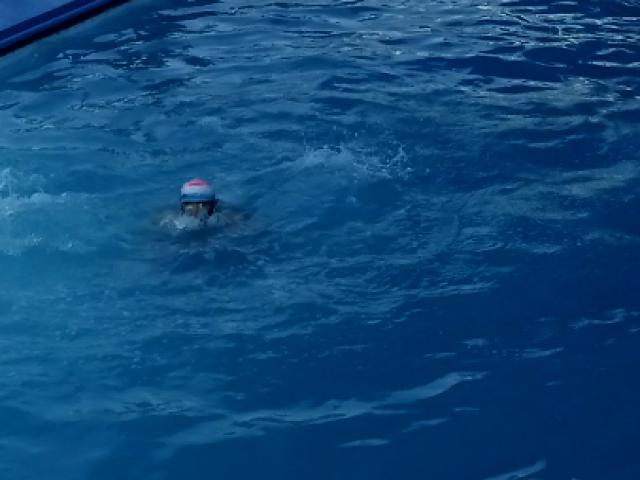drowning: (151, 176, 250, 238)
